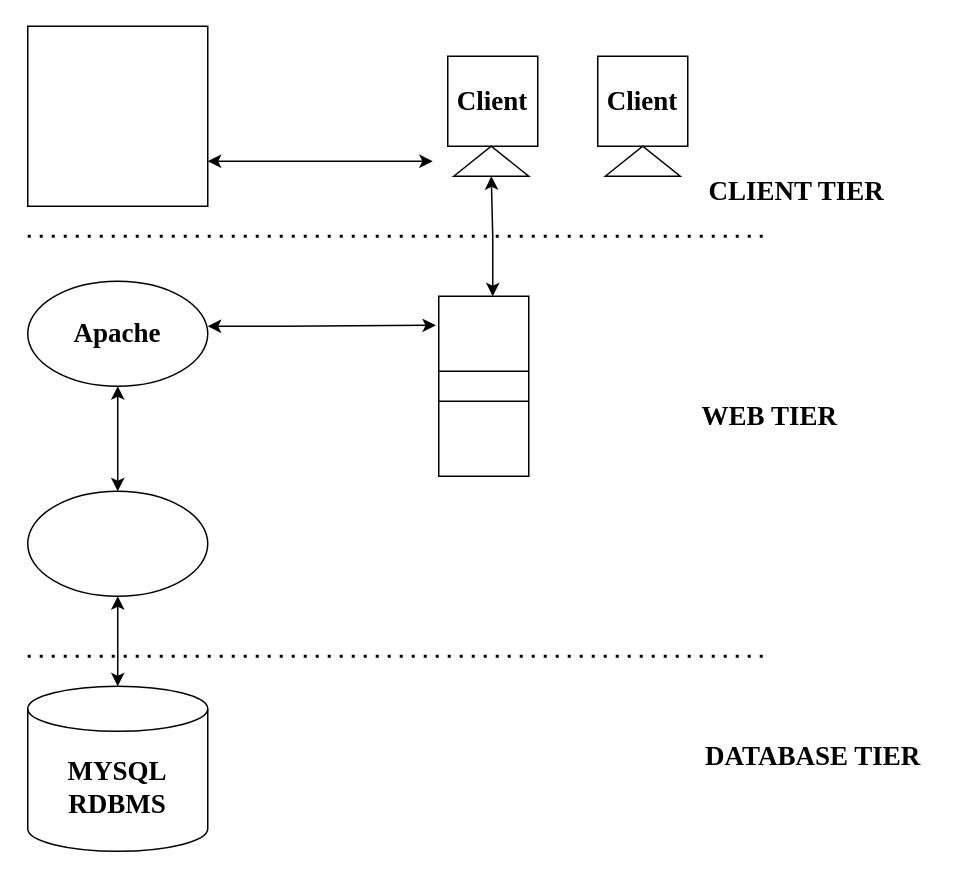
Image size: 953x878. Some labels were removed from this diagram. The shapes that lost their labels are listed below. From the top down, each one's box as (x1, y1, x2, y2) in pixels, then its label:
(26, 25, 208, 206): Web Browser
(26, 490, 208, 596): PHP
